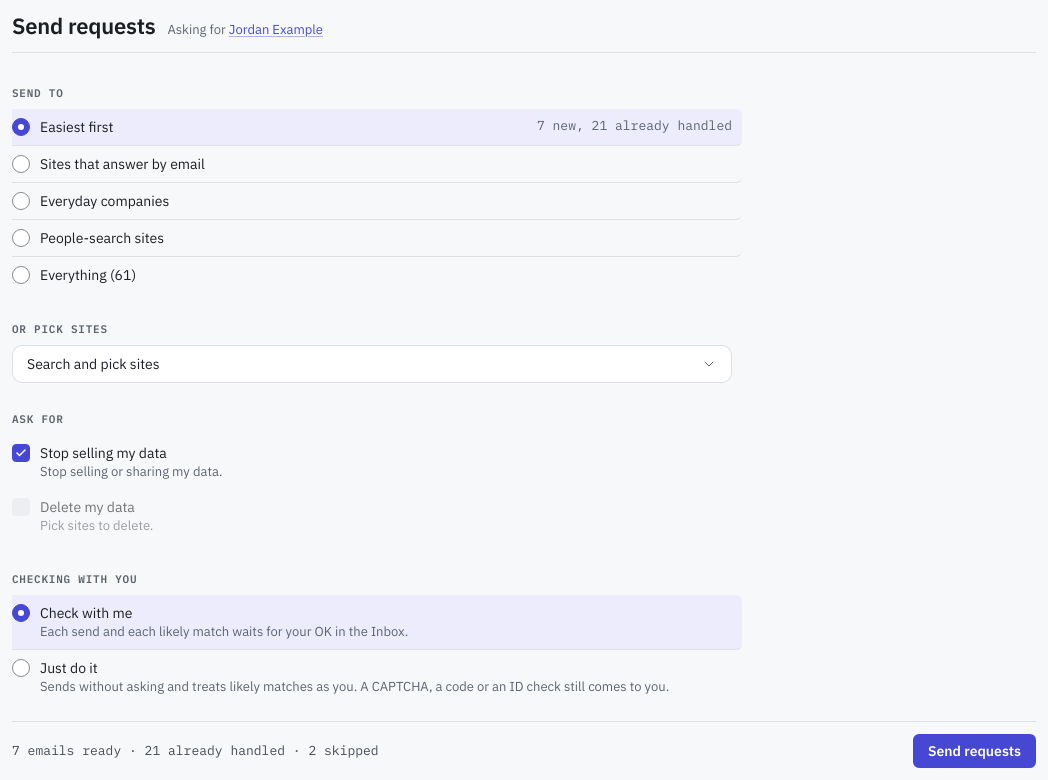
Test: the campaign builder › will not preview with no right chosen
Click the radio button labelled "Everyday companies" at (21, 201), box [12, 192, 30, 210]
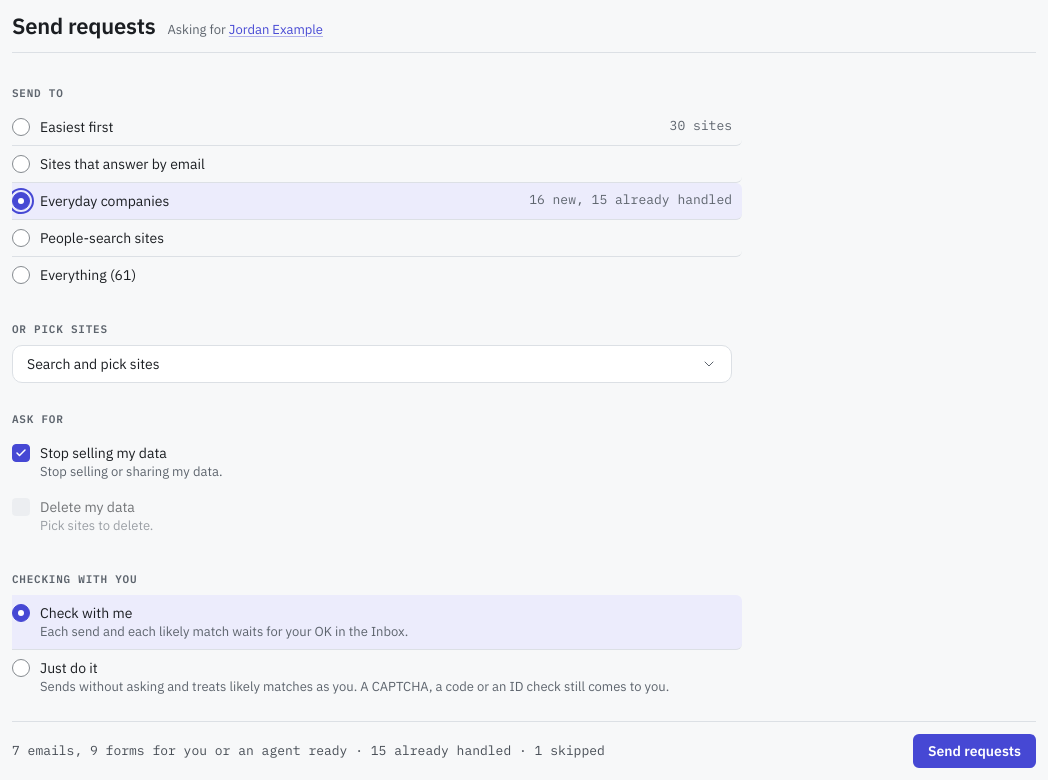
Click the checkbox labelled "Stop selling my data Stop selling or sharing my data." at (21, 453), box [12, 444, 30, 462]
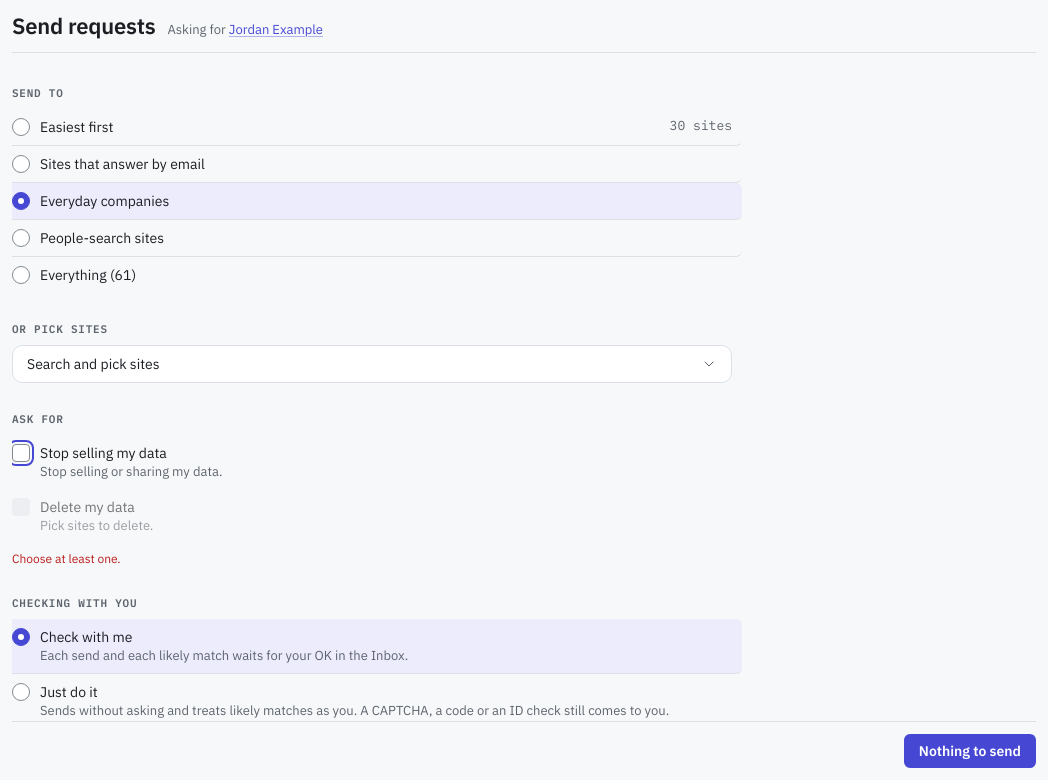
Expected: the text "Choose at least one." is shown, [12, 551, 121, 566]
Expected: the button "Nothing to send" is disabled, [904, 734, 1036, 768]
